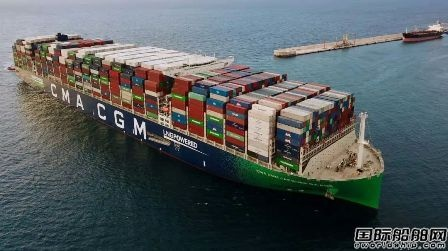Cargoship: (5, 31, 389, 209), (401, 18, 444, 44)
